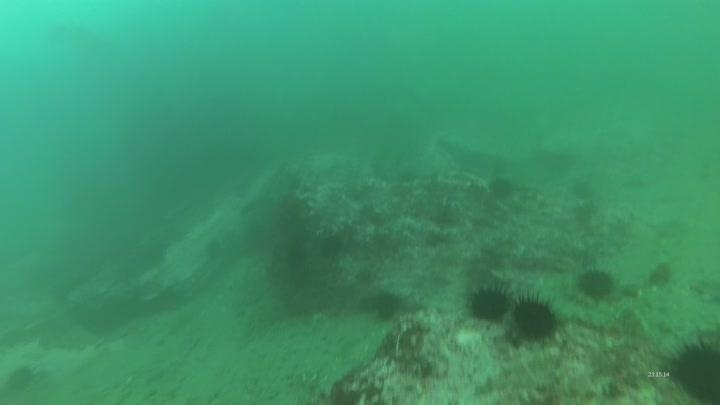echinus: (662, 331, 720, 404), (508, 291, 562, 345), (465, 283, 513, 325), (575, 266, 617, 302), (196, 233, 237, 268), (369, 288, 404, 323), (4, 363, 38, 395), (568, 177, 597, 202), (488, 172, 515, 198)
